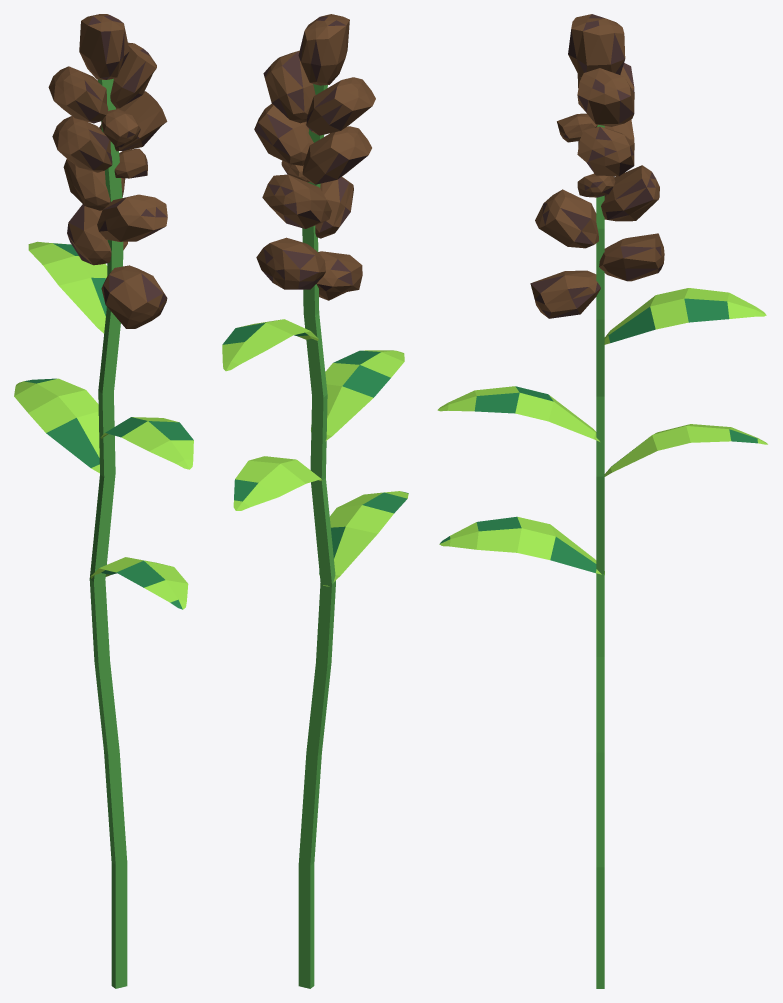
File: SORGO FINAL.fbx
The picture shows the model from 3 angles, left to right: view 1: azimuth 30°, elevation 25°; view 2: azimuth 150°, elevation 25°; view 3: azimuth 270°, elevation 25°; orthographic projection.
Visible parts, largest first — view 1: Icosphere, Plane.001, Cube; view 2: Icosphere, Plane.001, Cube; view 3: Icosphere, Plane.001, Cube.
Part boxes in pixels (x1=…): Icosphere: x1=48, y1=14, x2=167, y2=328; Plane.001: x1=14, y1=241, x2=193, y2=609; Cube: x1=89, y1=78, x2=127, y2=988; Icosphere: x1=254, y1=14, x2=375, y2=300; Plane.001: x1=222, y1=319, x2=408, y2=586; Cube: x1=298, y1=84, x2=335, y2=988; Icosphere: x1=530, y1=14, x2=664, y2=318; Plane.001: x1=437, y1=288, x2=767, y2=574; Cube: x1=596, y1=124, x2=604, y2=988.
Bounding box in the file's own units: 78.5 × 672 × 211.
